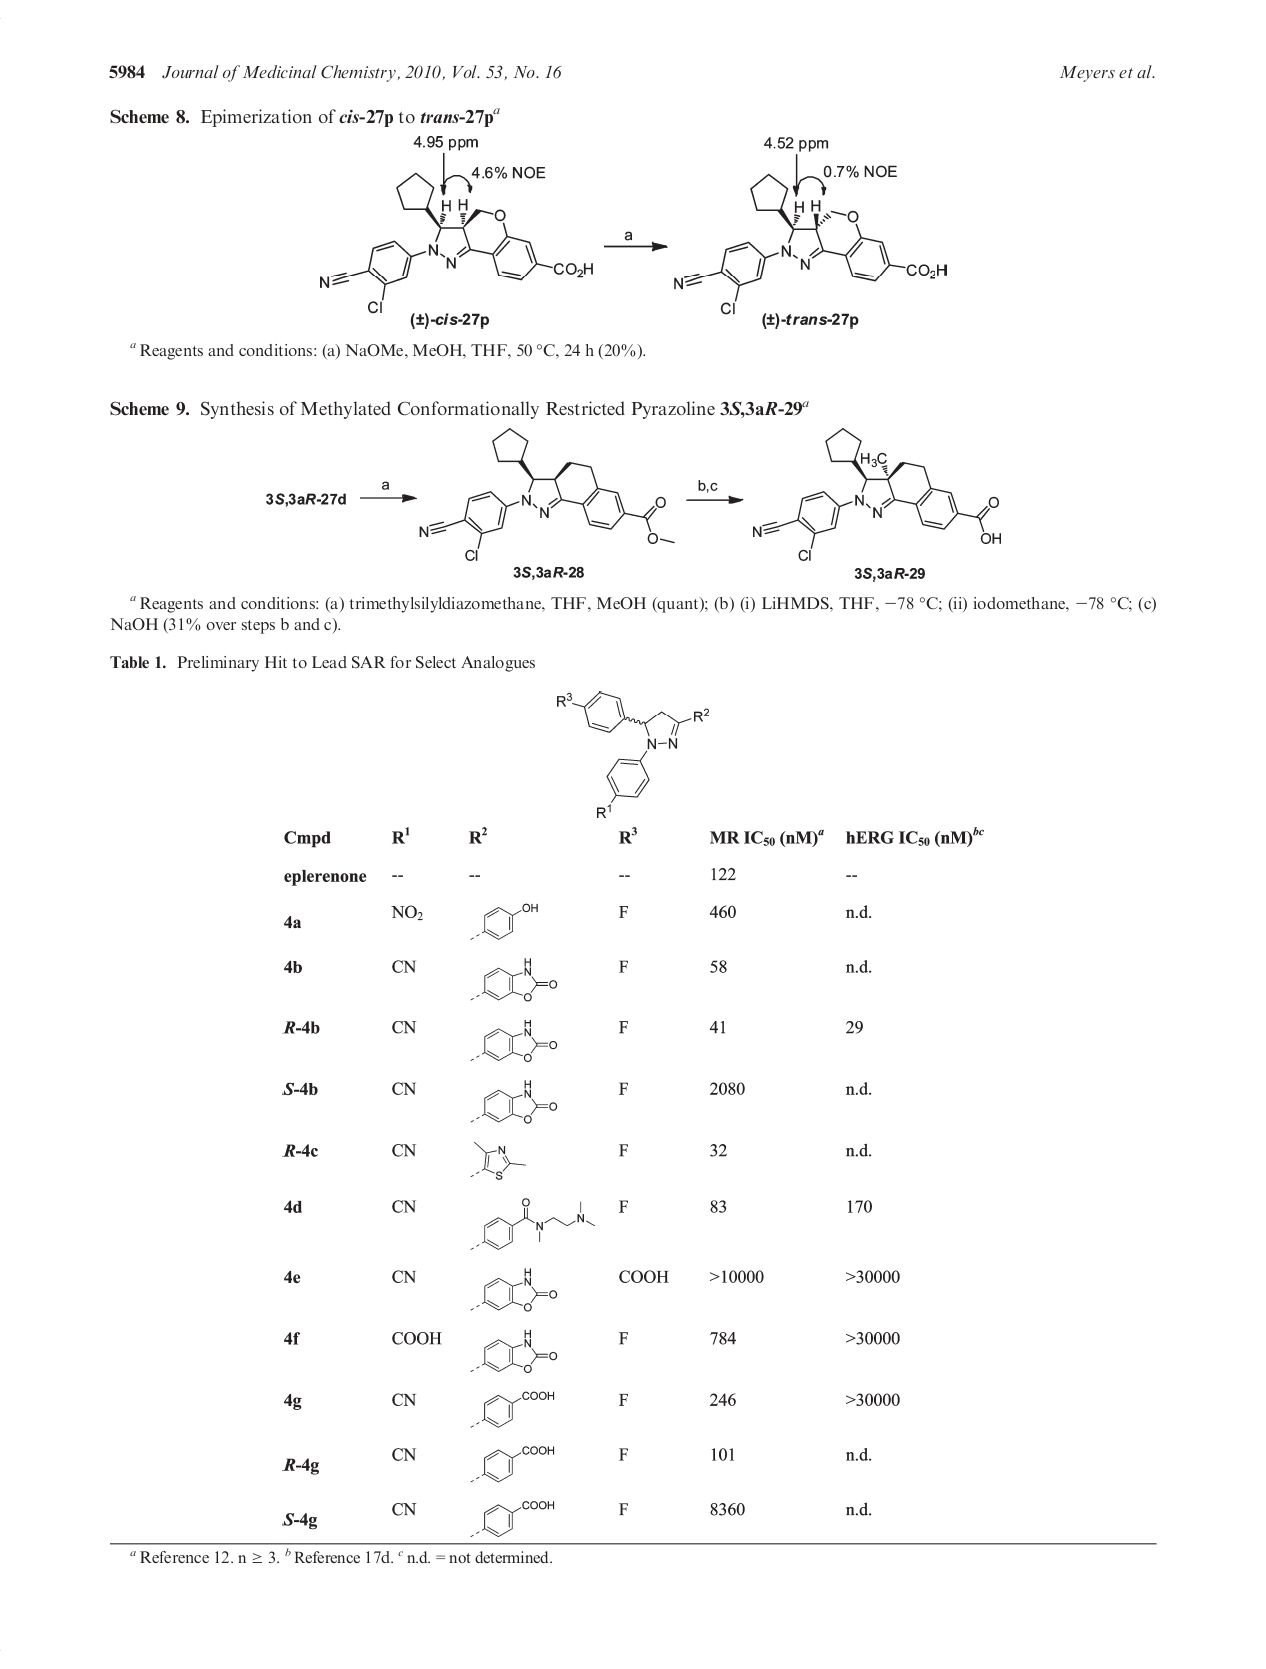exist_molecular: (315, 170, 597, 317), (672, 172, 951, 318), (418, 426, 678, 565), (751, 427, 1005, 564), (551, 689, 711, 821), (463, 1196, 596, 1253), (468, 1015, 559, 1067), (468, 1327, 563, 1376), (467, 1077, 560, 1126), (468, 1265, 561, 1314), (469, 955, 560, 1005), (467, 1442, 559, 1485), (467, 1387, 557, 1431), (467, 1497, 557, 1540), (465, 899, 543, 946), (467, 1138, 528, 1182)
